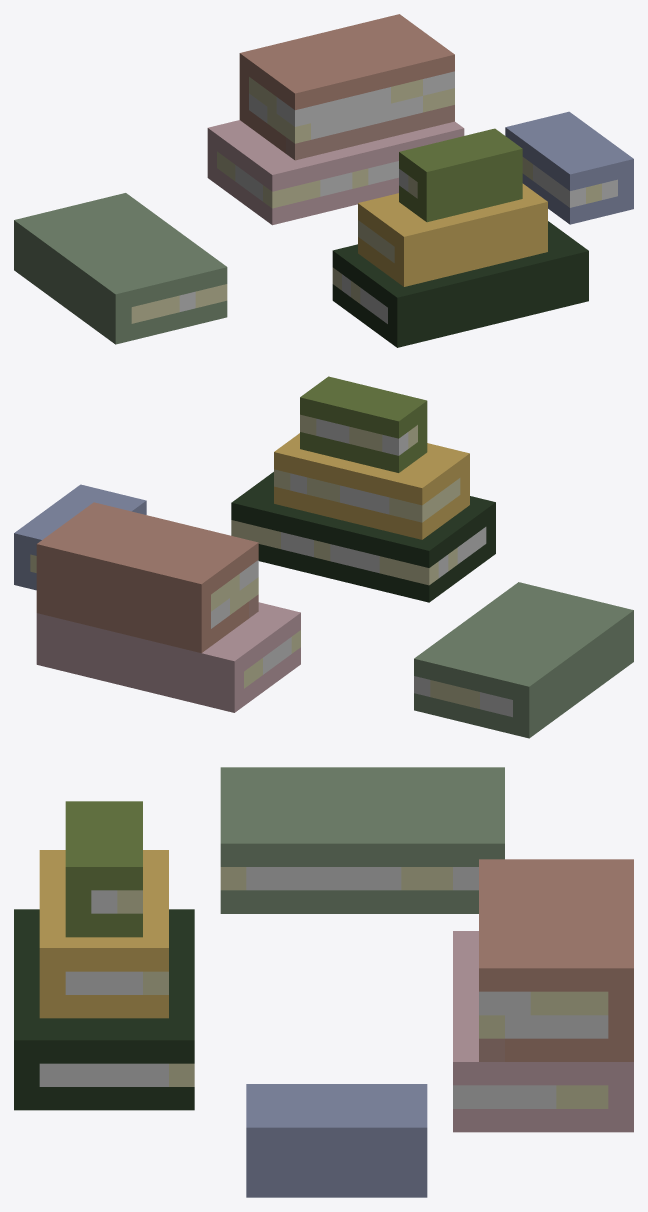
Rendered from Books.obj.
The picture shows the model from 3 angles, top to bottom: view 1: azimuth 30°, elevation 25°; view 2: azimuth 150°, elevation 25°; view 3: azimuth 270°, elevation 25°; orthographic projection. The views are drawn at different scales.
Bounding box in the file's own units: 3.3 × 0.9 × 2.4.
Materials: 1 (1 with a texture image).
